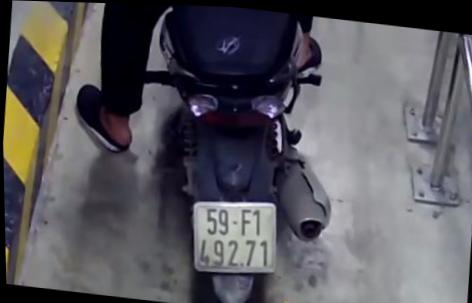LP: (185, 190, 282, 278)
